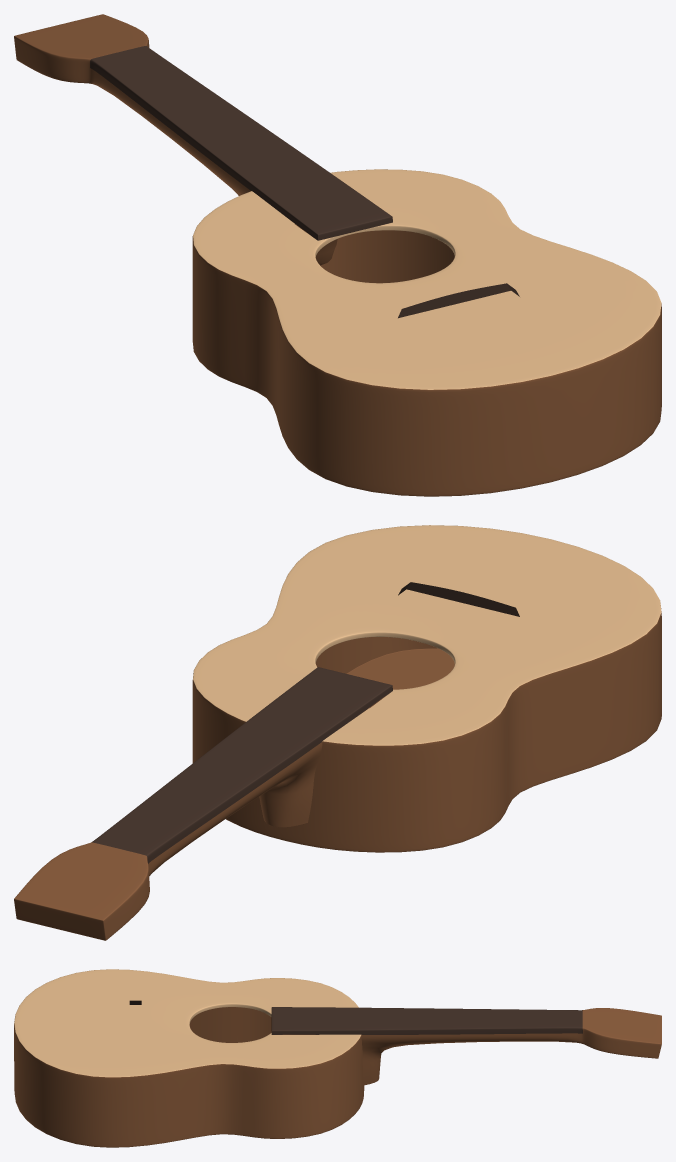
The model's file is guitar.gltf.
The picture shows the model from 3 angles, top to bottom: view 1: azimuth 30°, elevation 25°; view 2: azimuth 150°, elevation 25°; view 3: azimuth 270°, elevation 25°; orthographic projection. The views are drawn at different scales.
Visible parts, largest first — view 1: Guitar; view 2: Guitar; view 3: Guitar.
Part boxes in pixels (box(x1,y1,x2,y2)): Guitar: box(14, 14, 661, 496); Guitar: box(14, 525, 661, 940); Guitar: box(14, 969, 661, 1147).
Bounding box in the file's own units: 0.4015 × 0.1345 × 1.01.
